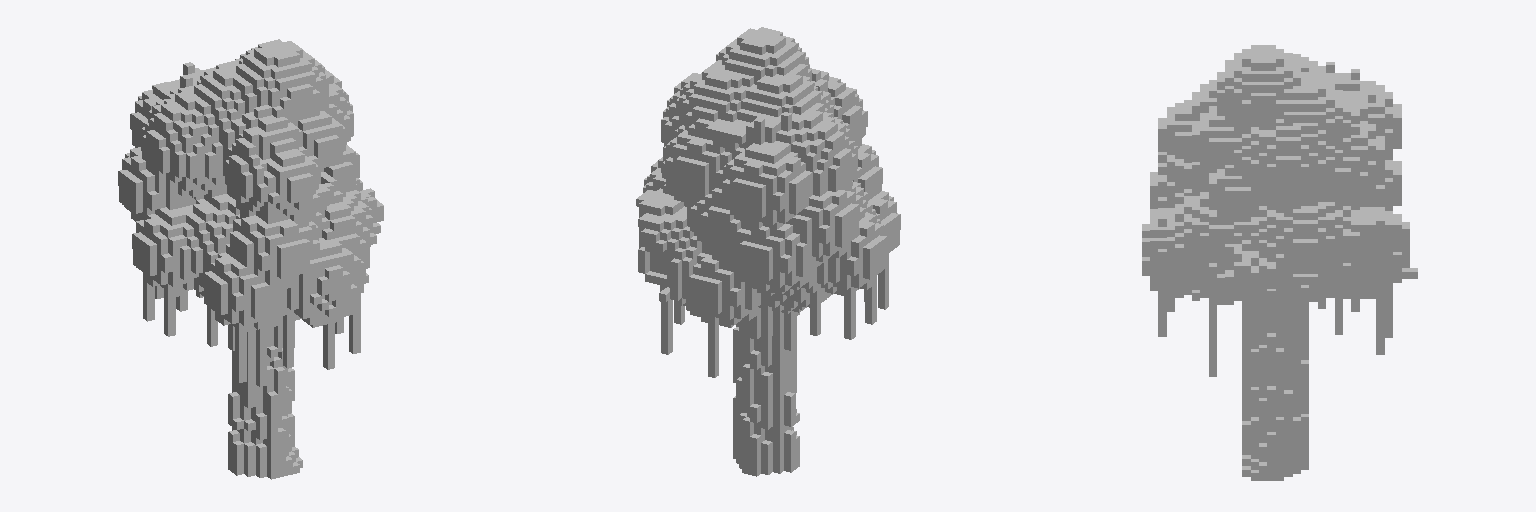
The model's file is tree2.obj.
3 renders of one model, left to right at view 1: azimuth 30°, elevation 25°; view 2: azimuth 150°, elevation 25°; view 3: azimuth 270°, elevation 25°, orthographic.
Parts seen in each view (by area): view 1: object 1; view 2: object 1; view 3: object 1.
Boxes of the visible parts, <box> form: object 1: <box>118,39,383,479</box>; object 1: <box>636,27,900,476</box>; object 1: <box>1142,45,1417,480</box>.
Size of the model in its own units: 3.1 by 5.5 by 3.3.